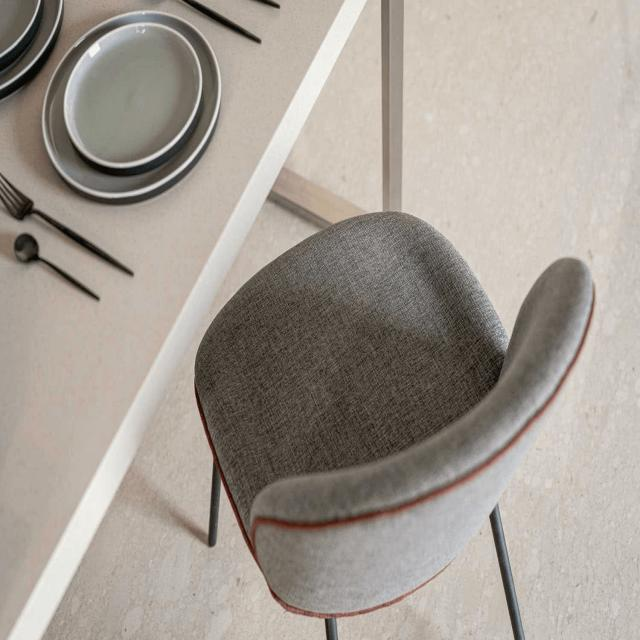chair: (190, 207, 599, 640)
